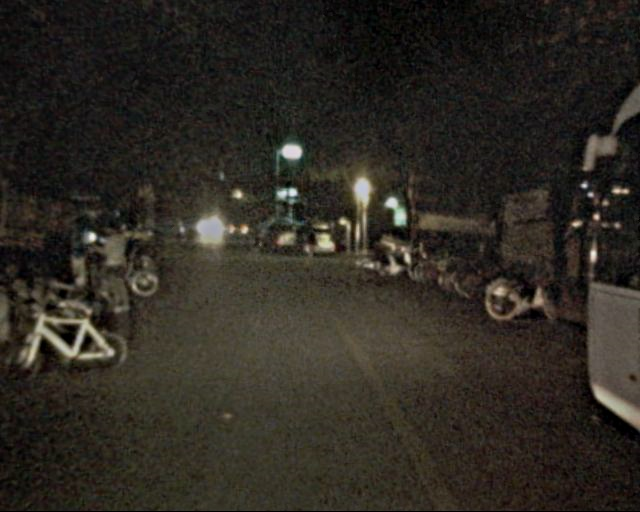person: (96, 215, 137, 314), (302, 225, 321, 271), (248, 225, 261, 257)
